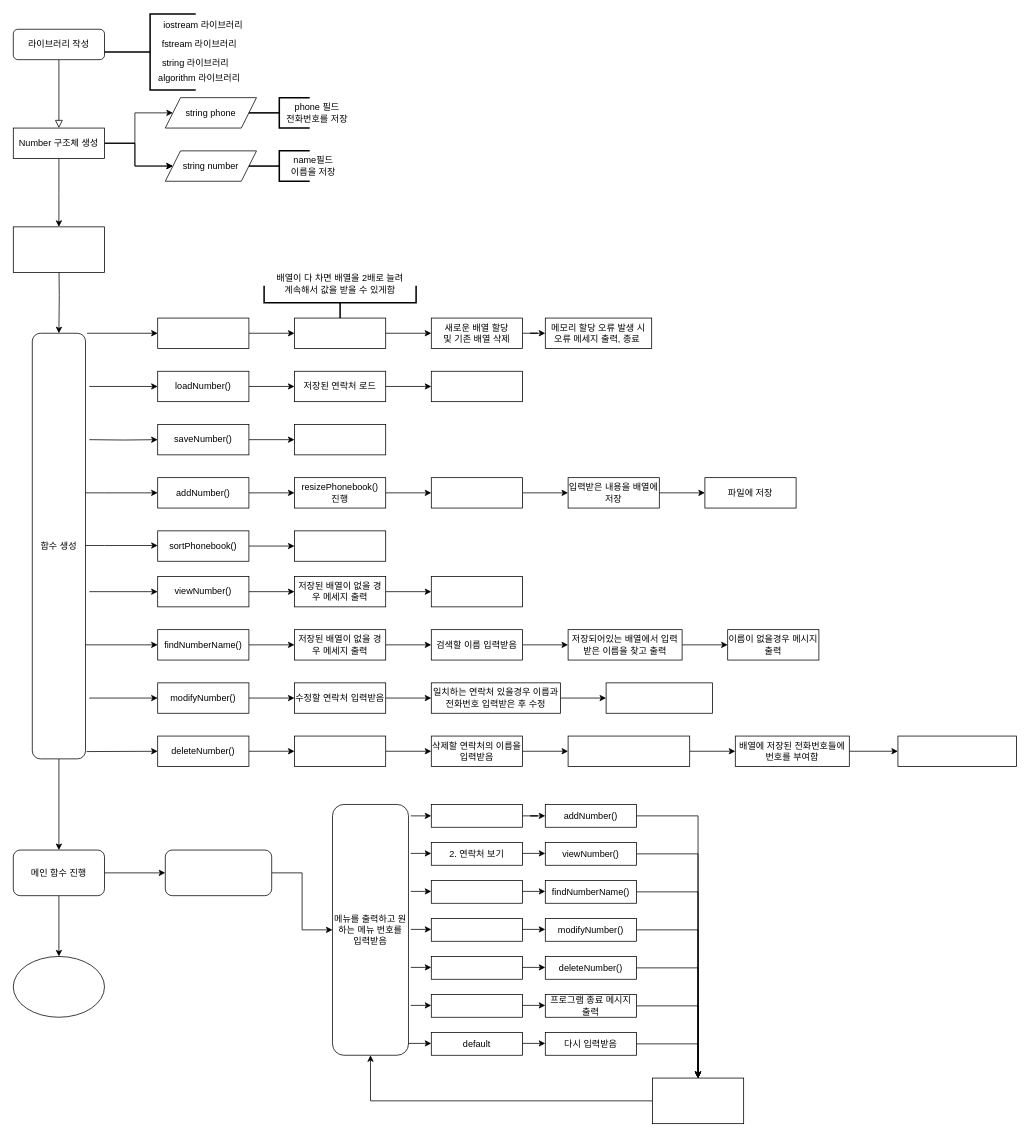
Some shapes in this 1030 by 1137 pixel diagram are drawn without their labels. The centre of each missing label's shape, as x and y in pixels:
1. 연락처 추가: (476,815)
3. 연락처 검색: (476,891)
4. 연락처 수정: (476,929)
5. 연락처 삭제: (476,967)
6. 종료: (476,1005)
int newCapacity = capacity * 2;: (340,332)
resizePhonebook(): (203,332)
while(choice != 6) 6을 입력받기 전까지 반복: (698,1100)
배열, 저장파일 생성 및 포인터 선언: (58,249)
연락처 목록 이름 순으로 정렬: (340,545)
이름과 전화번호를 입력받음: (476,492)
일치하는 연락처가 없을경우 메시지 출력: (658,697)
입력받은 이름과 일치하는 전화번호들을 배열에 저장: (628,750)
저장된 배열 출력: (476,591)
저장된 배열이 없을 경우 메시지 출력: (340,750)
저장된 연락처가 없을경우 메세지 출력: (476,386)
전화번호부 배열을 파일에 저장: (340,439)
전화번호에 부여된 번호를 입력하면 전화번호가 삭제됨: (956,750)
종료: (58,986)
프로그램 시작시 파일에서 저장된 연락처 불러옴: (218,872)
